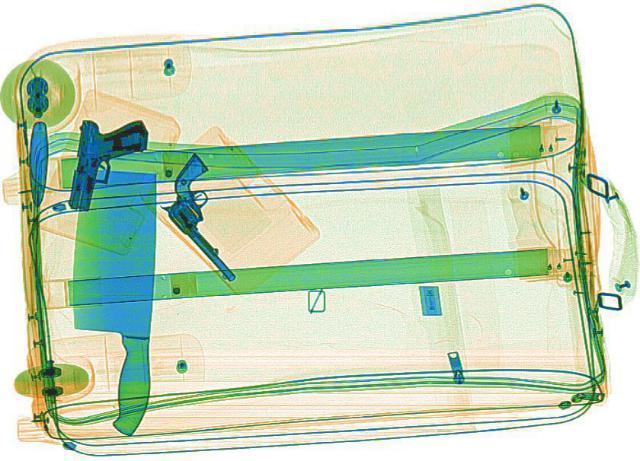Gun: (127, 151, 295, 280), (64, 115, 152, 213)
Knife: (63, 169, 159, 436), (24, 120, 46, 389)
